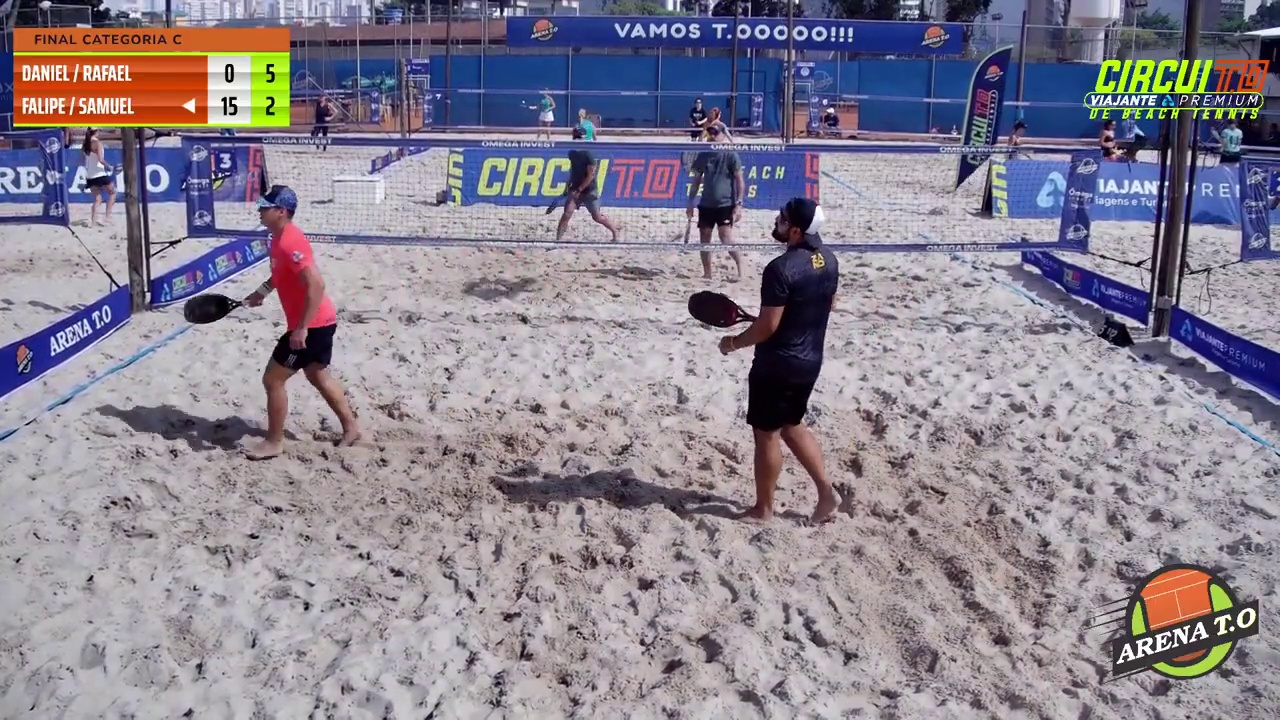court_line: (619, 0, 792, 352)
